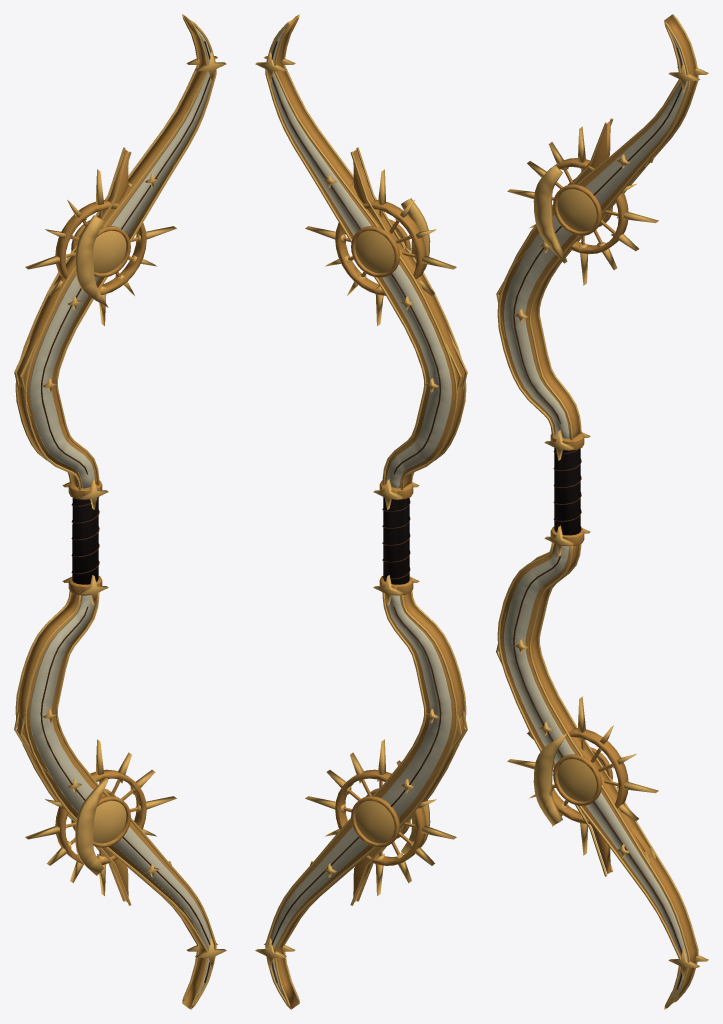
File: Aetheria_Sunspire_Bow_Body_LOD1.fbx
3 views of the same model, side by side, from view 1: azimuth 30°, elevation 25°; view 2: azimuth 150°, elevation 25°; view 3: azimuth 330°, elevation 25° (orthographic).
Parts seen in each view (by area): view 1: Bow_Body_LOD1; view 2: Bow_Body_LOD1; view 3: Bow_Body_LOD1.
Part boxes in pixels (x1,y1,x2,y2): Bow_Body_LOD1: [14, 14, 226, 1009]; Bow_Body_LOD1: [255, 14, 467, 1009]; Bow_Body_LOD1: [496, 14, 708, 1009].
Size of the model in its own units: 39.51 by 183 by 7.92.
